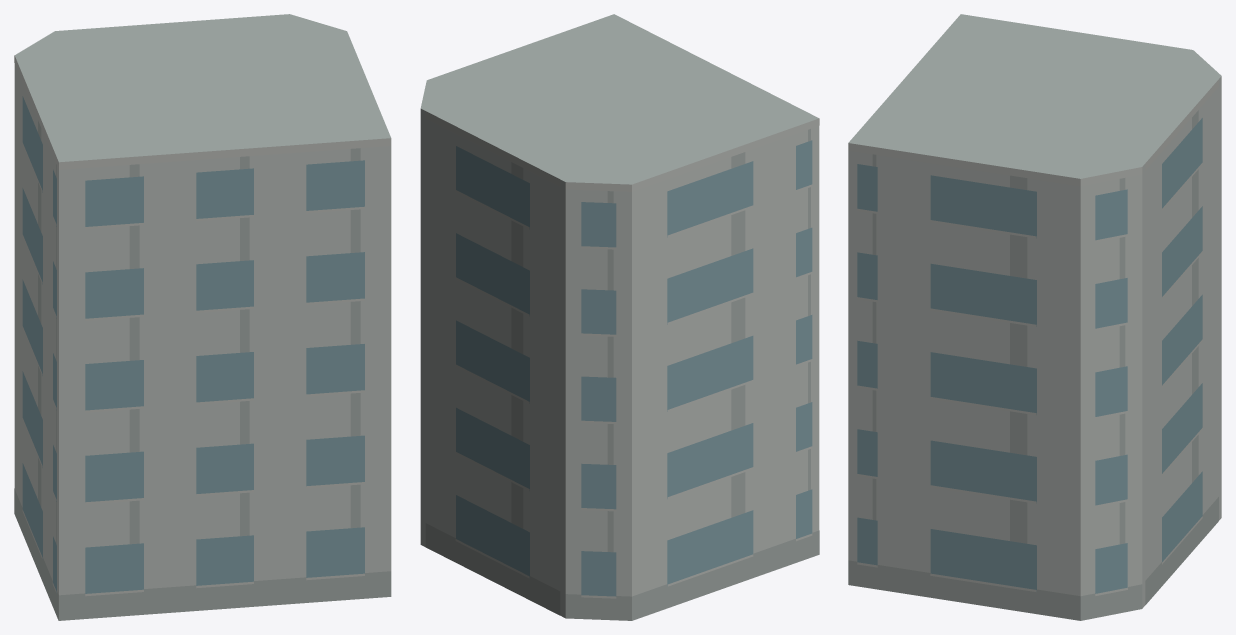
The model's file is survey-upis-32878263.glb.
3 renders of one model, left to right at view 1: azimuth 30°, elevation 25°; view 2: azimuth 150°, elevation 25°; view 3: azimuth 270°, elevation 25°, orthographic. The views are drawn at different scales.
Visible parts, largest first — view 1: survey-upis-32878263.tmp; view 2: survey-upis-32878263.tmp; view 3: survey-upis-32878263.tmp.
Part boxes in pixels (bbox=[...]): survey-upis-32878263.tmp: bbox=[14, 14, 391, 620]; survey-upis-32878263.tmp: bbox=[420, 14, 819, 620]; survey-upis-32878263.tmp: bbox=[848, 14, 1221, 620].
Bounding box in the file's own units: 11.45 × 14.3 × 10.96.
